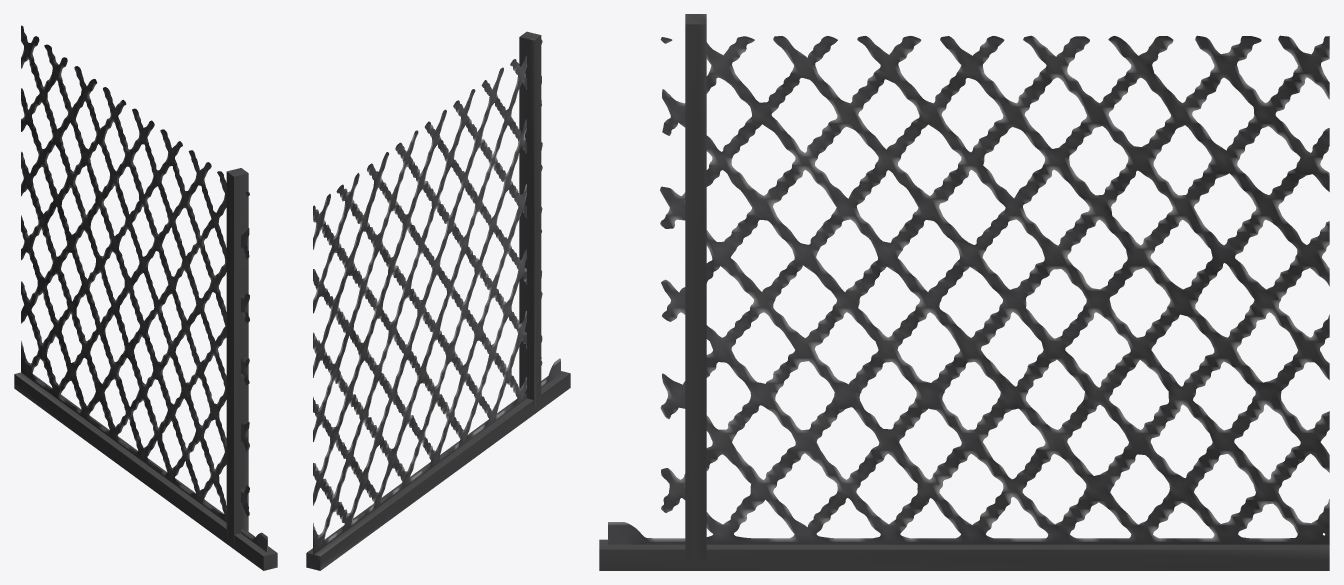
File: pz_fence_png_fencing_01_27.obj
3 renders of one model, left to right at view 1: azimuth 30°, elevation 25°; view 2: azimuth 150°, elevation 25°; view 3: azimuth 270°, elevation 25°, orthographic. The views are drawn at different scales.
Bounding box in the file's own units: 0.042 × 1.02 × 1.24.
Materials: 1 (1 with a texture image).
